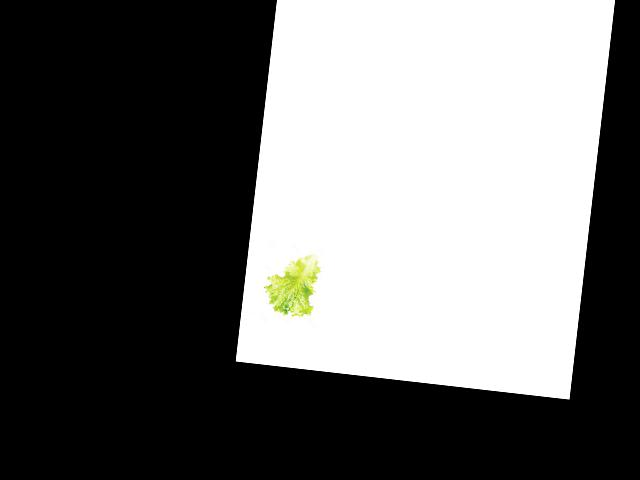lettuce: (261, 248, 319, 318)
